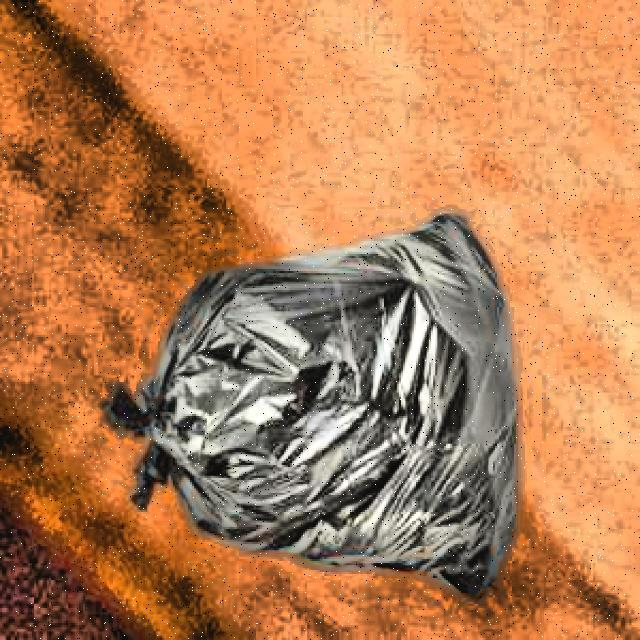Trashbag: (90, 200, 529, 603)
